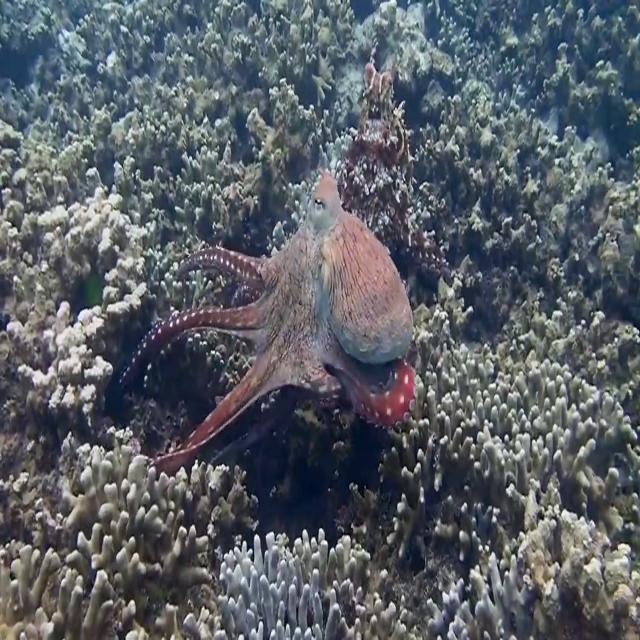octopus: (119, 164, 422, 486)
